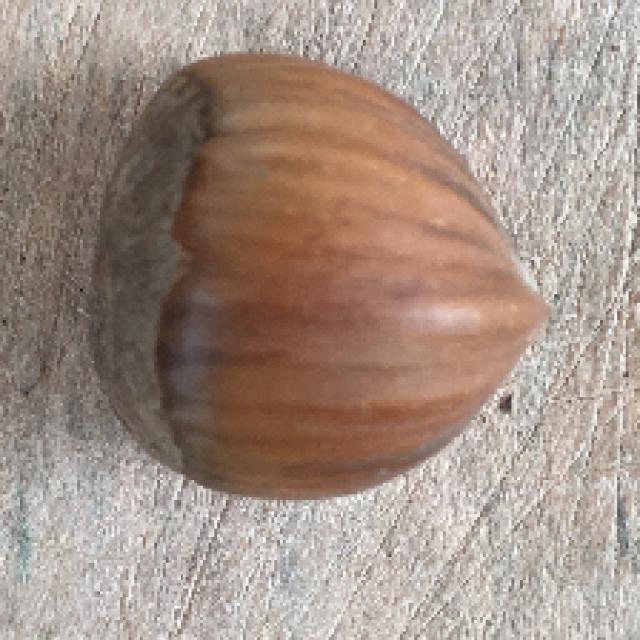DamagedHazelnut: (84, 51, 551, 500)
